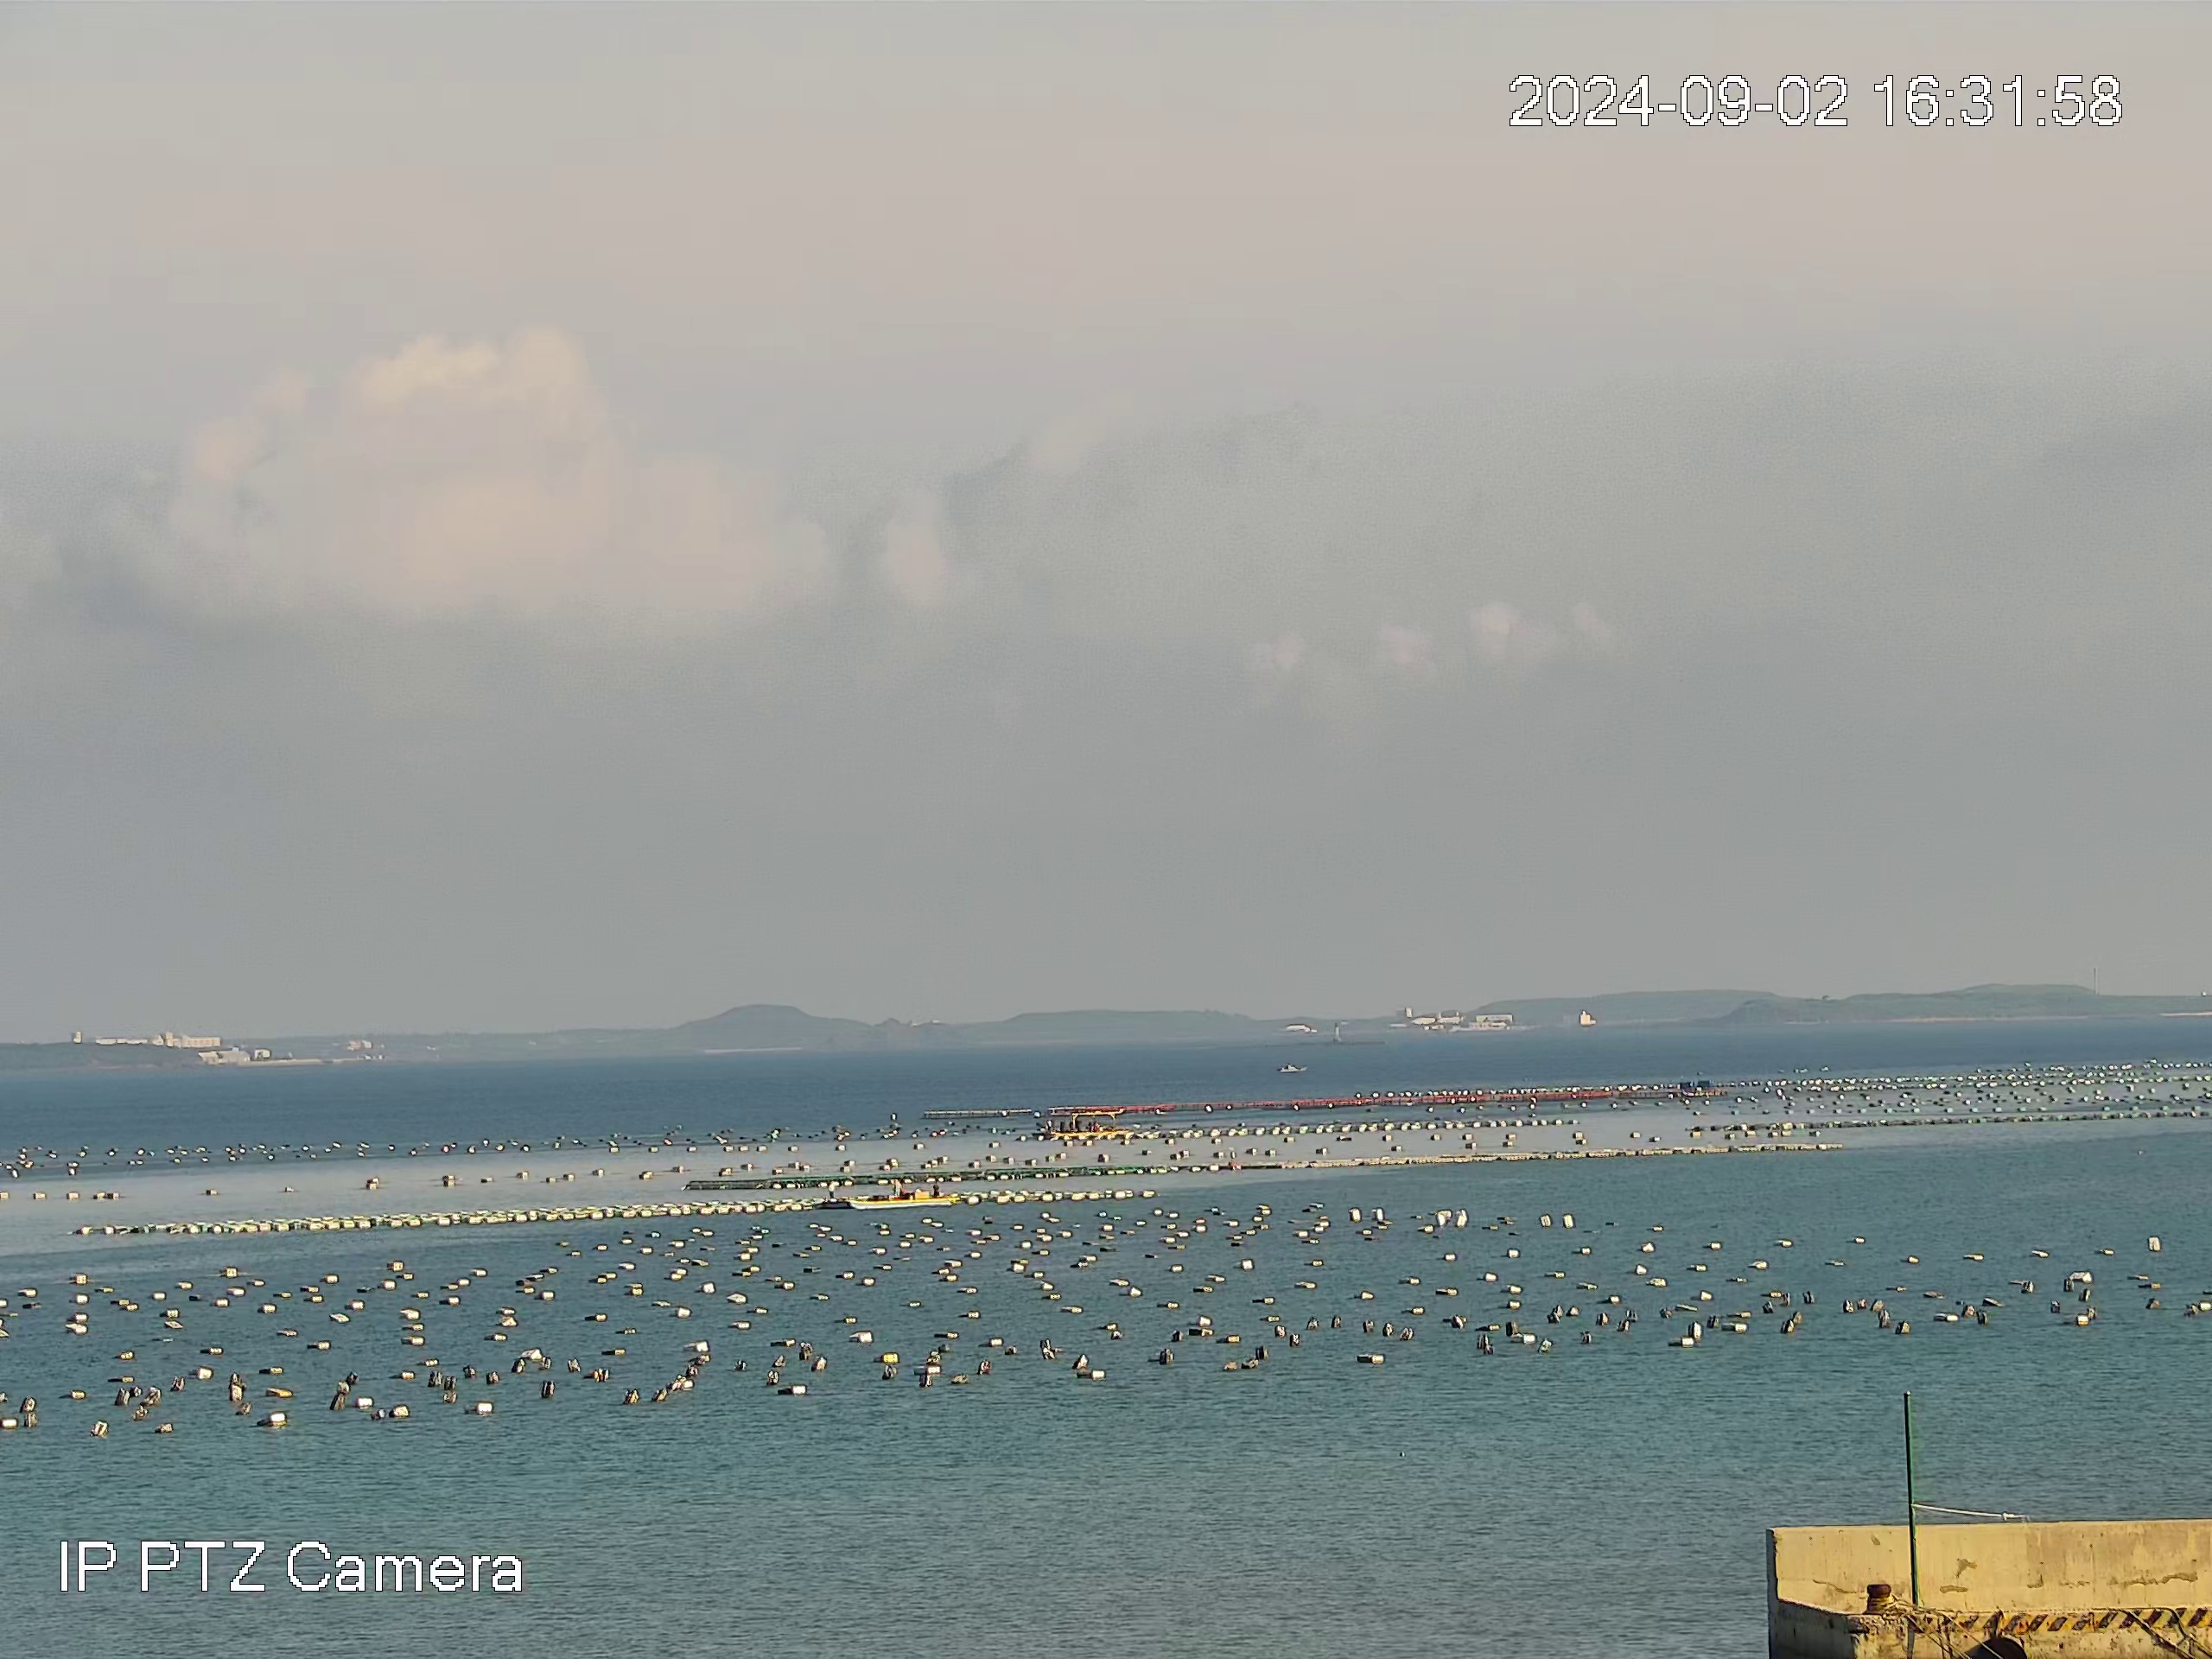boat: (845, 1178, 960, 1210), (1065, 1108, 1131, 1136), (1277, 1062, 1309, 1074)
